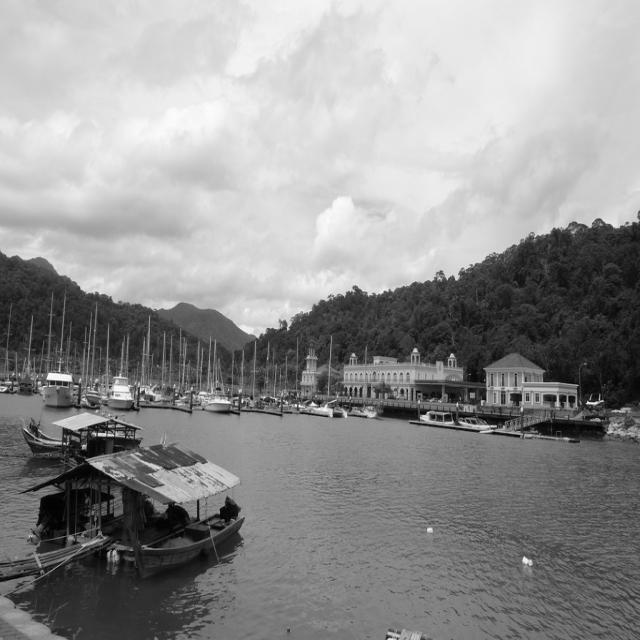Boat: (0, 286, 384, 420), (0, 430, 246, 582), (17, 396, 144, 468), (408, 411, 454, 425), (457, 416, 497, 430)
